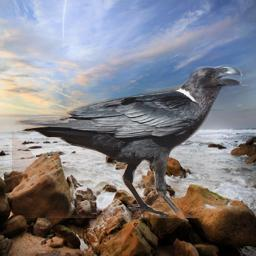Crow: (12, 62, 243, 218)
